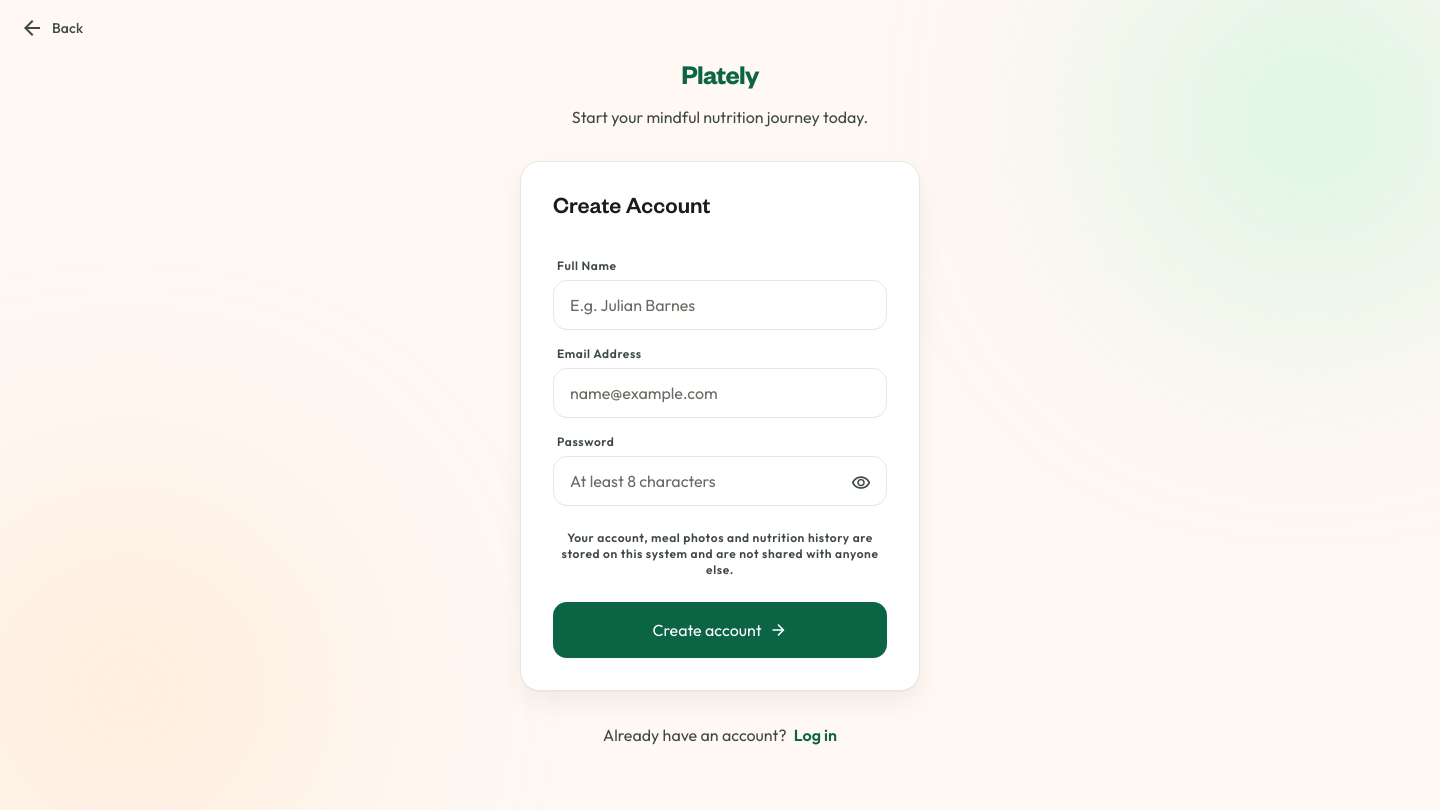
Signup › shows joined validation messages from a 422
This screenshot has width=1440, height=810.
Type "Ada Lovelace" into the field labelled "Full Name" at coordinates (720, 305), box [553, 280, 887, 330]
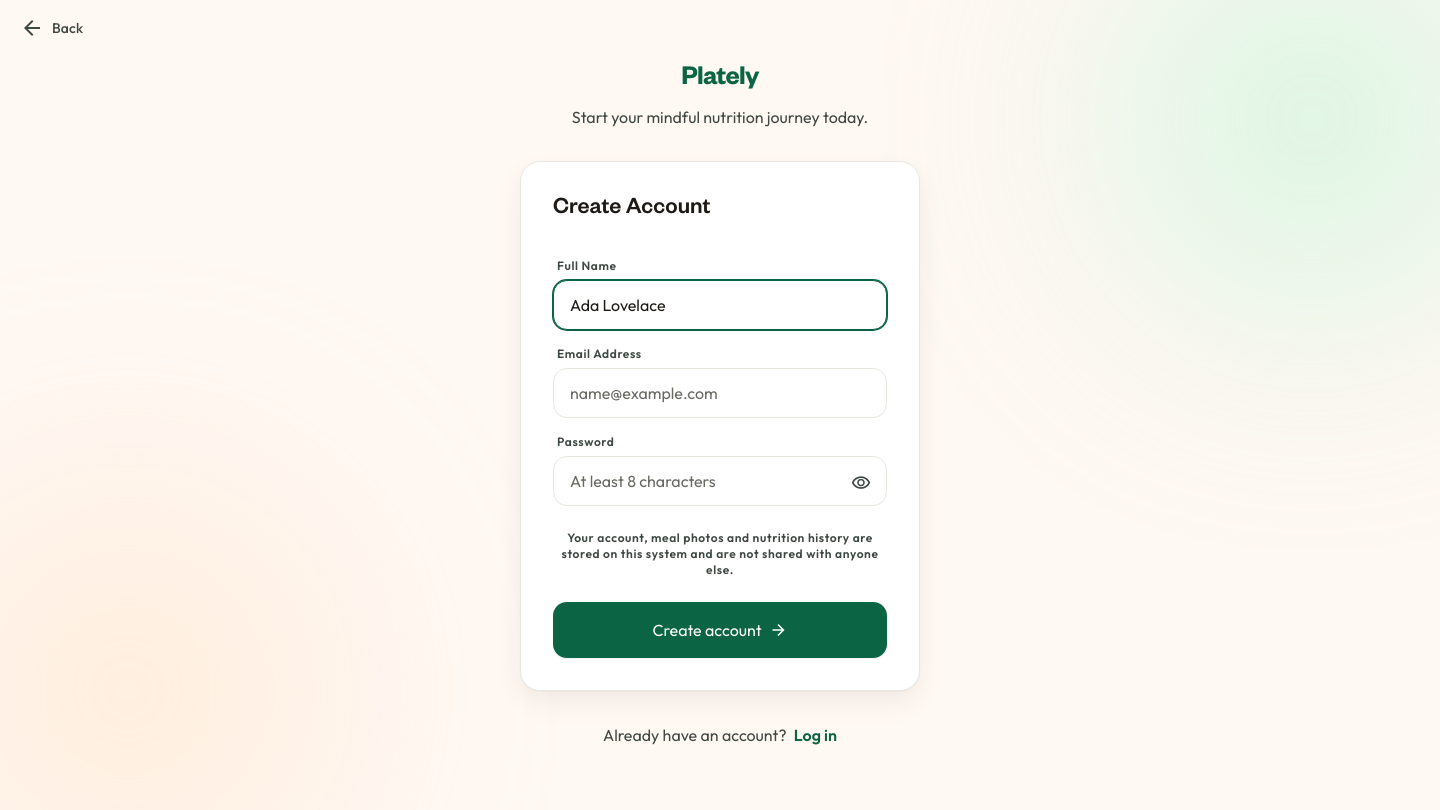
Type "ada@example.com" into the field labelled "Email Address" at coordinates (720, 393), box [553, 368, 887, 418]
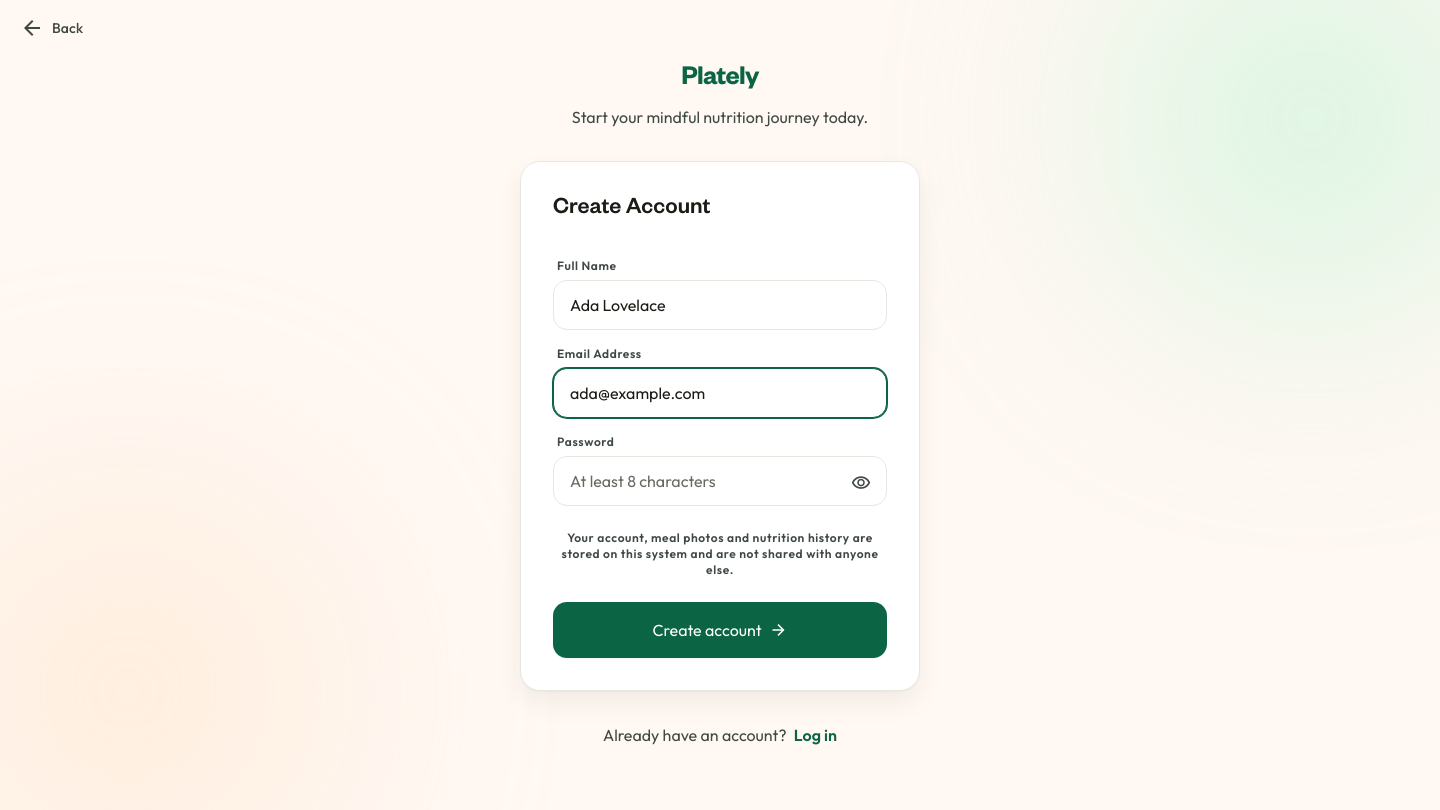
Type "hunter22" into the password field labelled "Password" at coordinates (720, 481), box [553, 456, 887, 506]
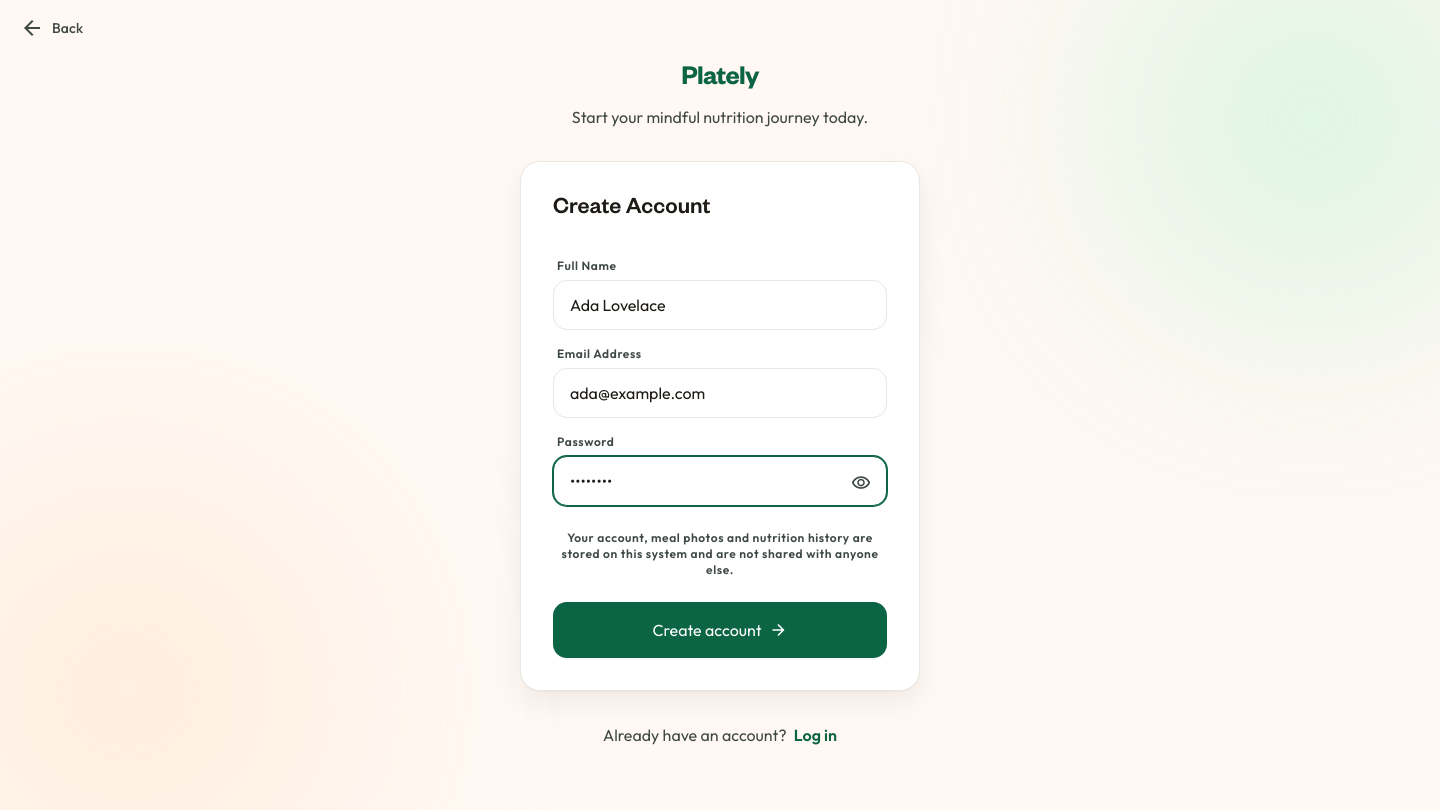
Click the button "Create account" at coordinates (720, 630), box [553, 602, 887, 658]
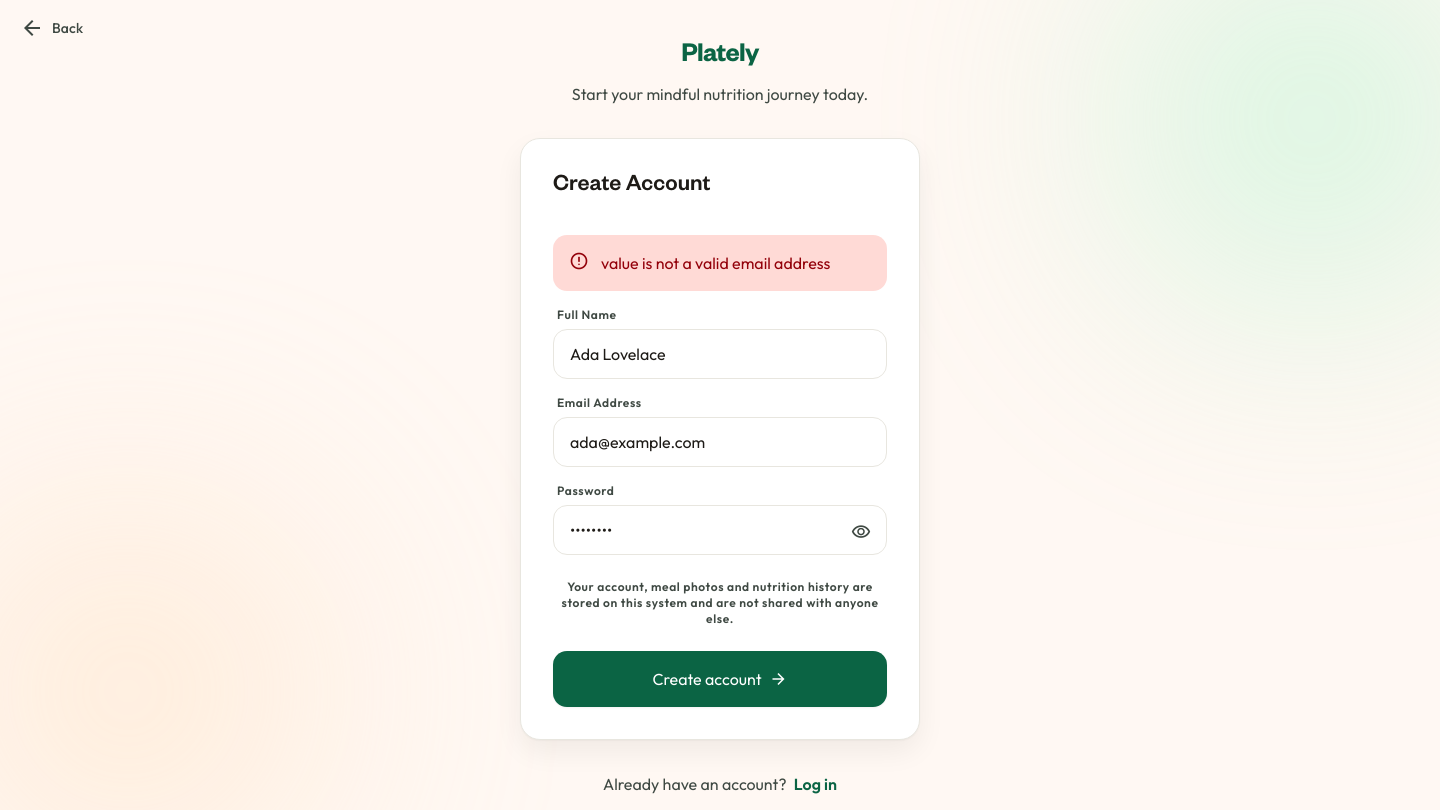
Result: the message reads "value is not a valid email address" at [601, 253, 830, 273]
